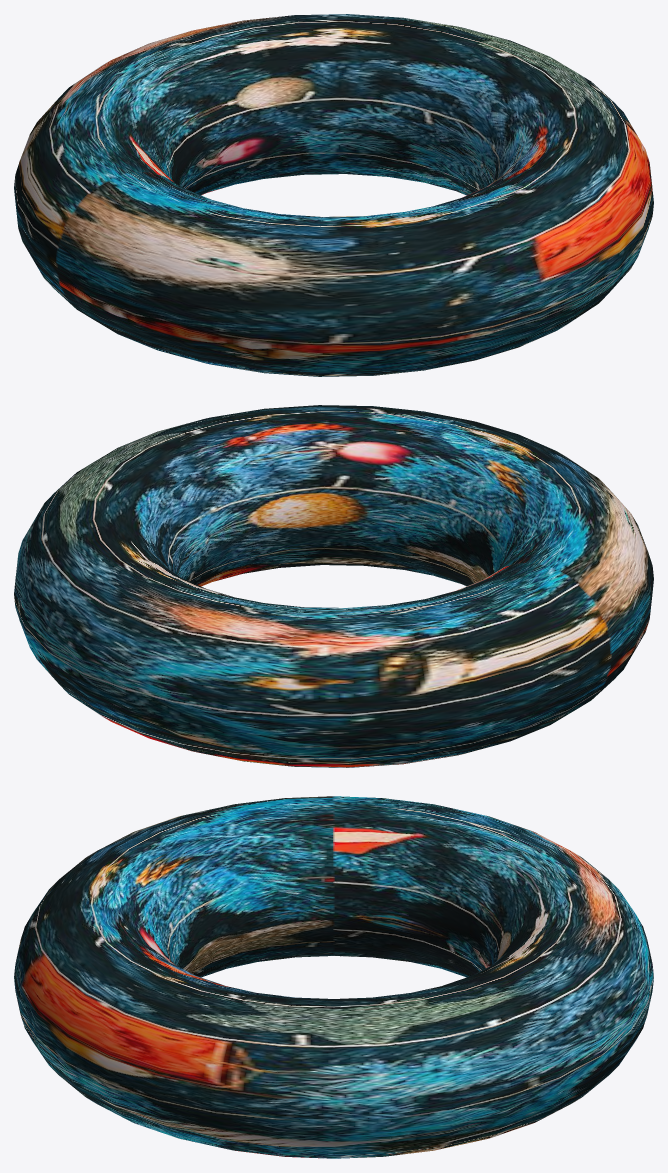
3 views of the same model, one above another, from view 1: azimuth 30°, elevation 25°; view 2: azimuth 150°, elevation 25°; view 3: azimuth 270°, elevation 25° (orthographic).
Visible parts, largest first — view 1: SurfTorus; view 2: SurfTorus; view 3: SurfTorus.
Part boxes in pixels (box(x1,y1,x2,y2)): SurfTorus: box(14, 14, 653, 376); SurfTorus: box(14, 405, 653, 767); SurfTorus: box(14, 796, 653, 1158).
Bounding box in the file's own units: 2 × 0.5 × 2.
Materials: 1 (1 with a texture image).
